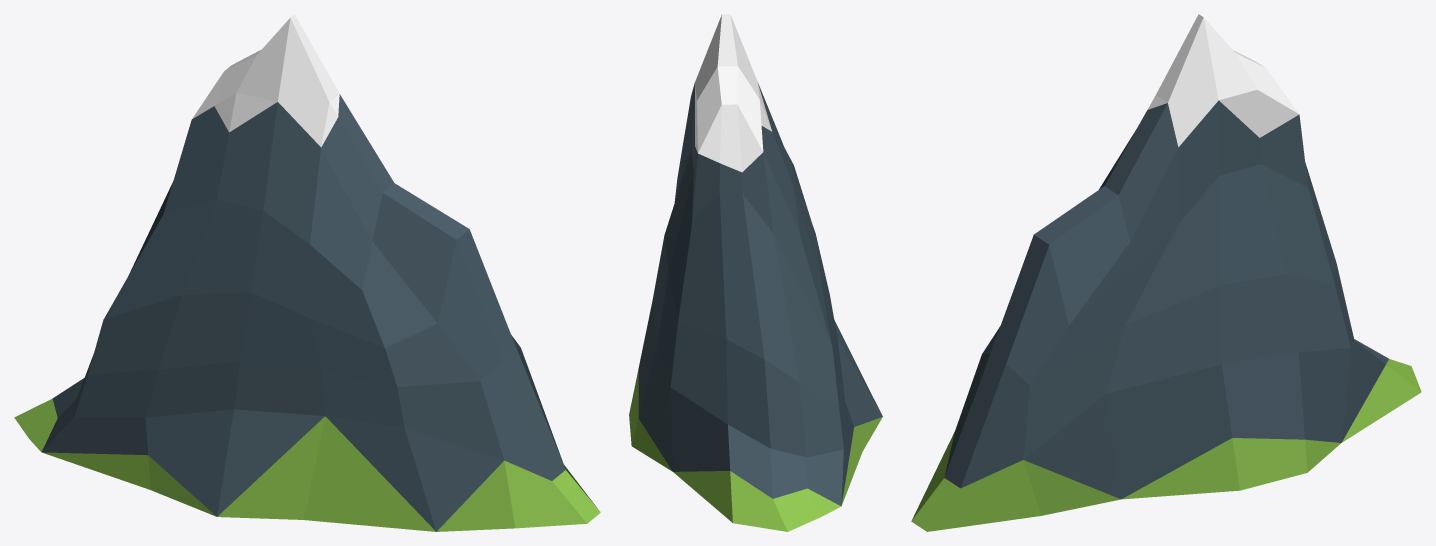
The model's file is mountain_9_lev1.glb.
The picture shows the model from 3 angles, left to right: view 1: azimuth 30°, elevation 25°; view 2: azimuth 150°, elevation 25°; view 3: azimuth 270°, elevation 25°; orthographic projection. The views are drawn at different scales.
Visible parts, largest first — view 1: mountain_9_lev1; view 2: mountain_9_lev1; view 3: mountain_9_lev1.
Part boxes in pixels (bbox=[...]): mountain_9_lev1: bbox=[14, 14, 600, 531]; mountain_9_lev1: bbox=[629, 14, 882, 531]; mountain_9_lev1: bbox=[911, 14, 1421, 531].
Size of the model in its own units: 21.55 by 25.17 by 26.84.
